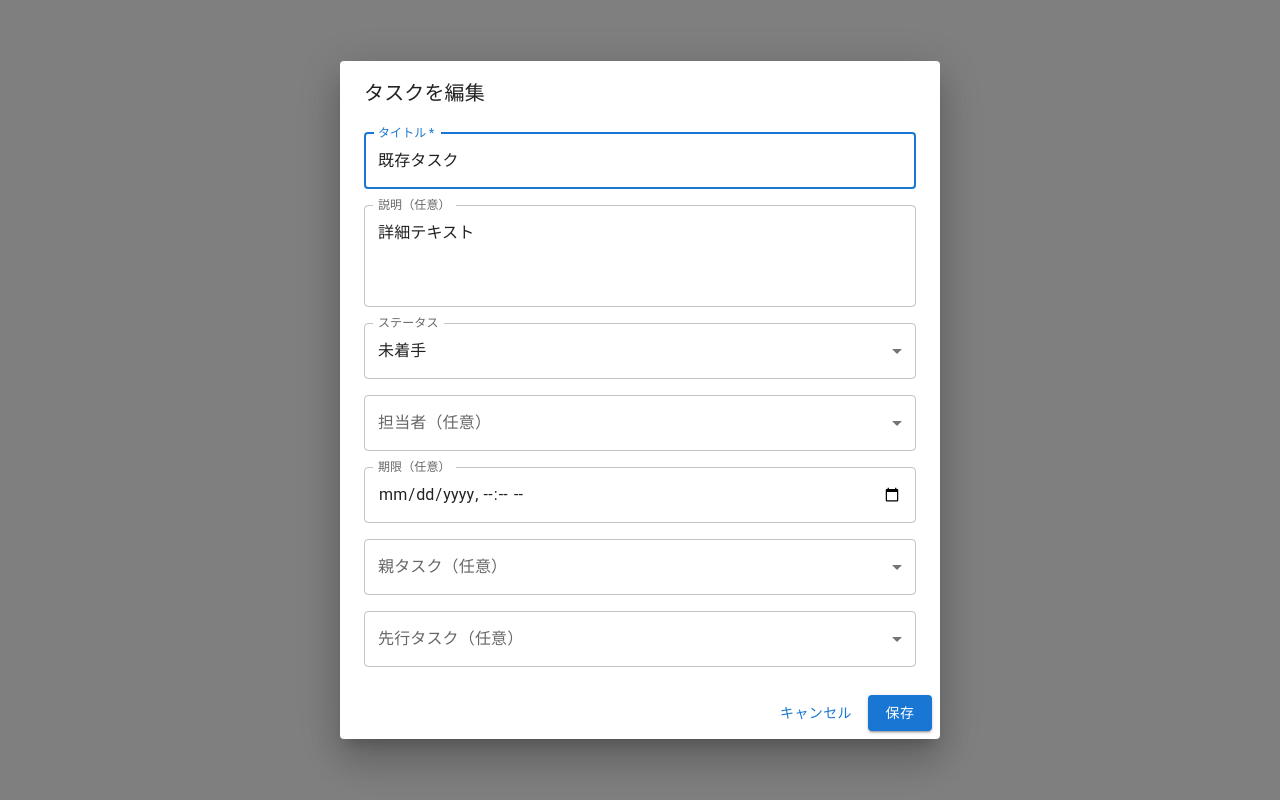
Test: EditTaskDialog › 親子・依存関係の編集 › 循環関係のAPIエラーをダイアログ内に表示する
The image size is (1280, 800).
Step 1. Click the button "保存" → (900, 713), box [868,695,932,731]
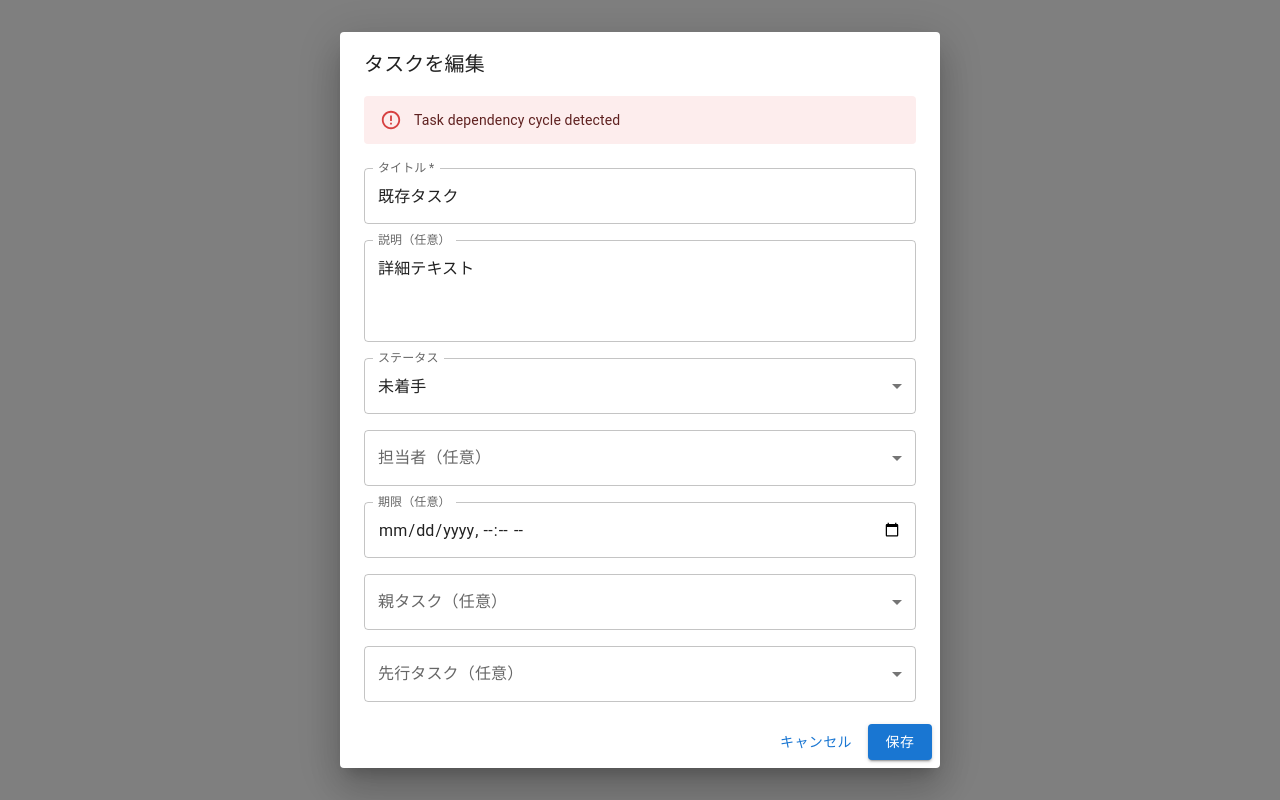
Expected: the text "Task dependency cycle detected" is shown, [414,112,620,128]
